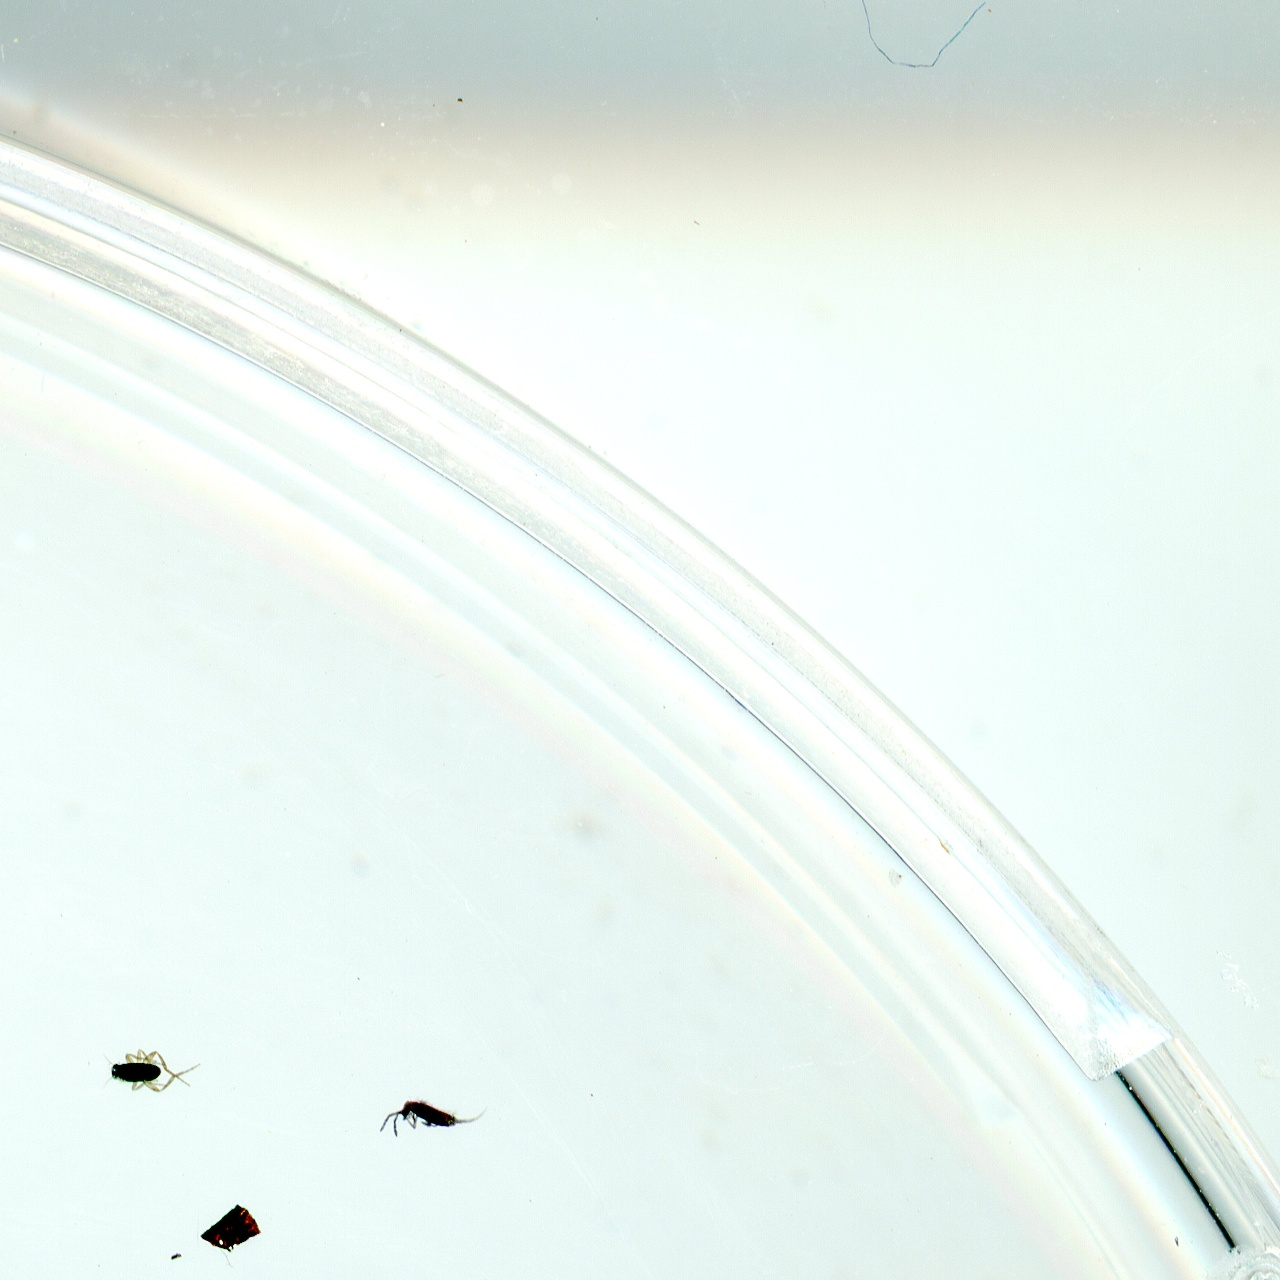arthropod: (95, 1042, 211, 1105), (374, 1089, 495, 1142)
